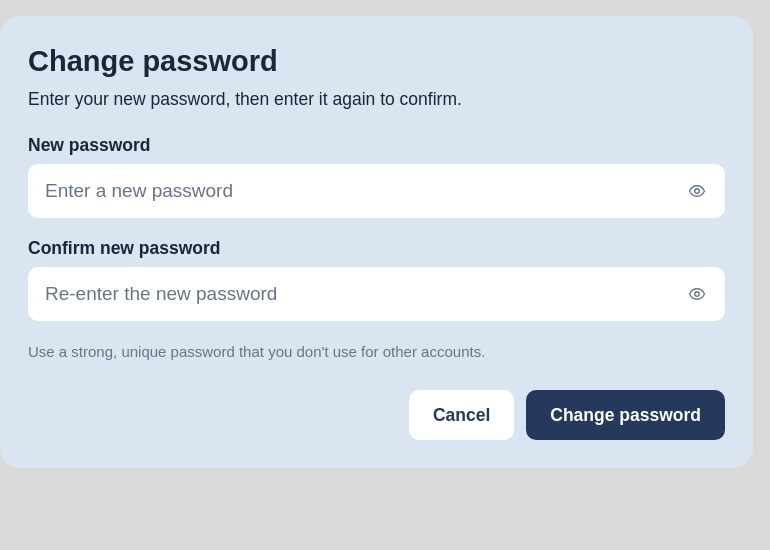
Test: Password validation › rejects passwords shorter than 8 characters
Type "Short1" into the password field labelled "New password" at [376, 191], box [28, 164, 725, 218]
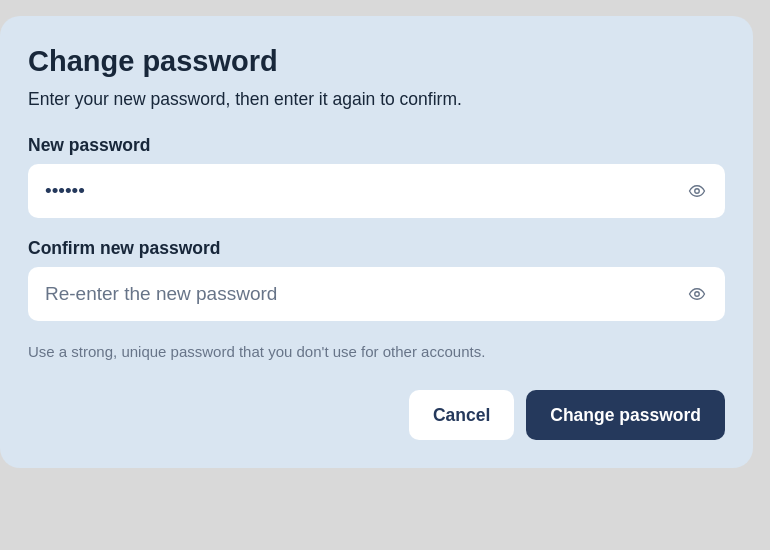
Type "Short1" into the password field labelled "Confirm new password" at [376, 294], box [28, 267, 725, 321]
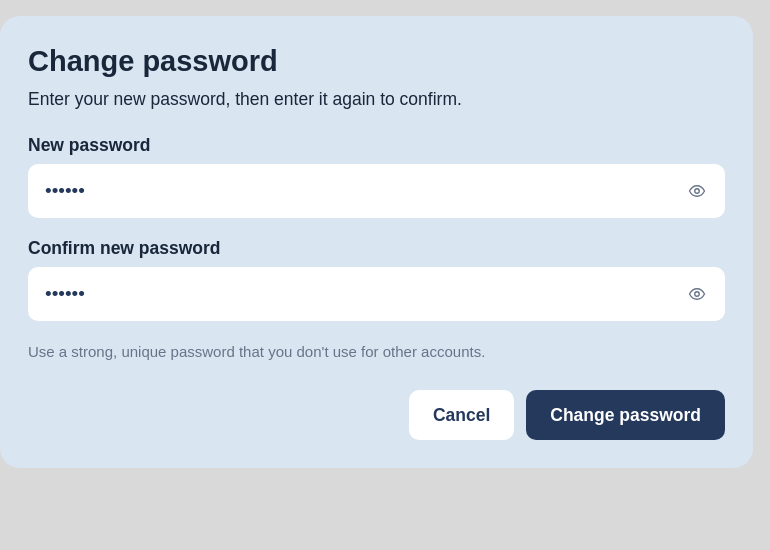
Submit the form "Change password"
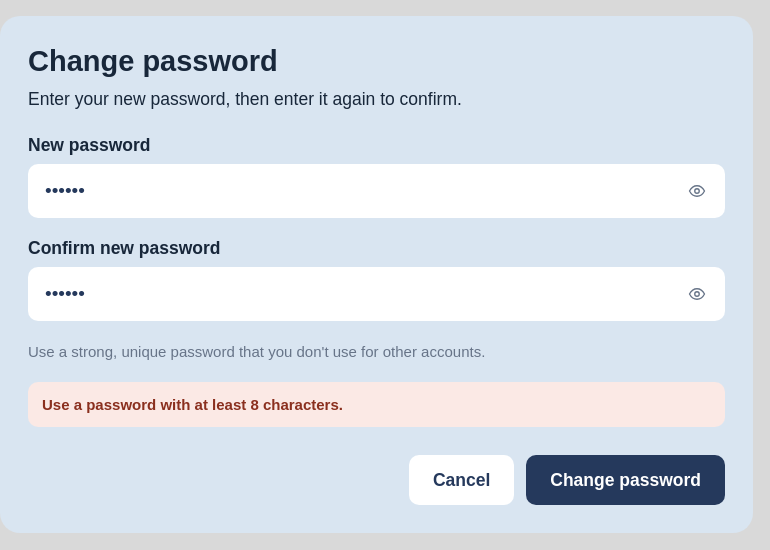
expect the message reads "Use a password with at least 8 characters.": met, box [42, 396, 343, 413]
